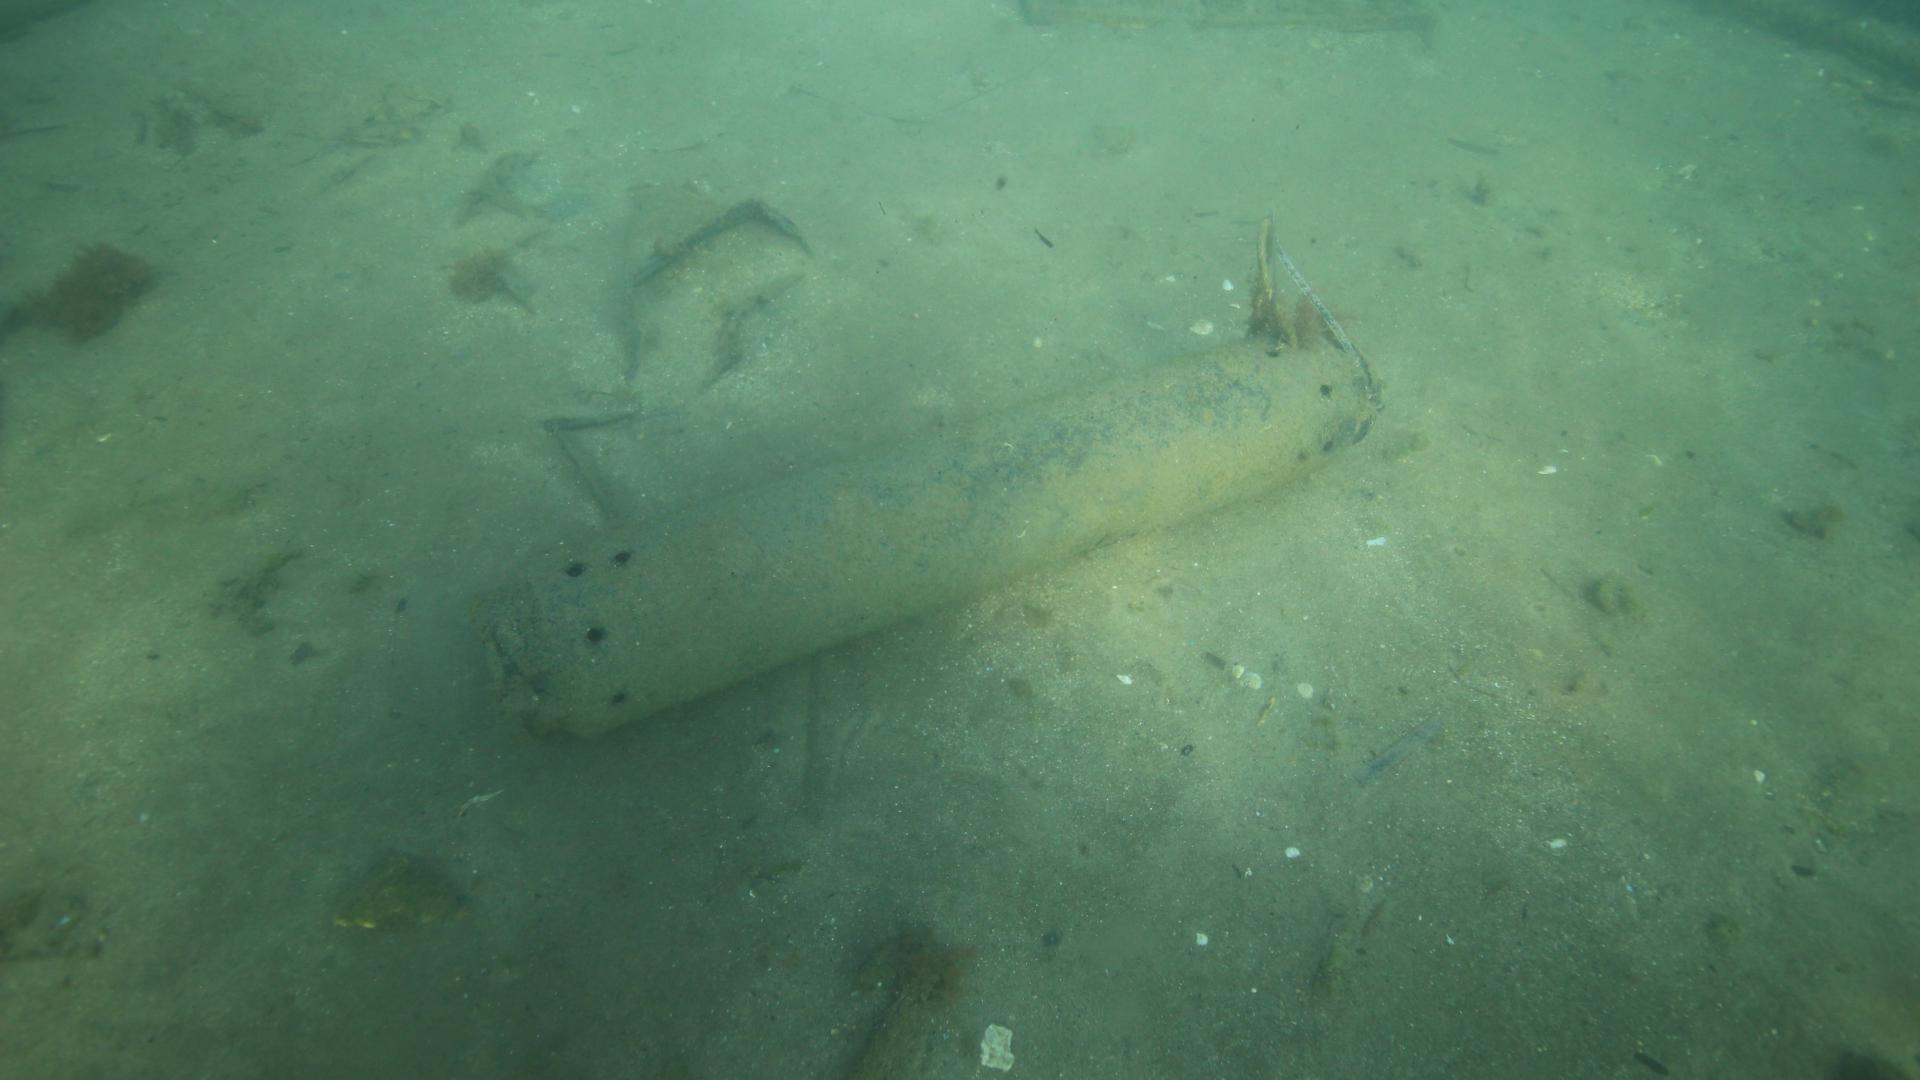eel fish trap: (495, 324, 1382, 738)
rope: (1247, 211, 1296, 357)
